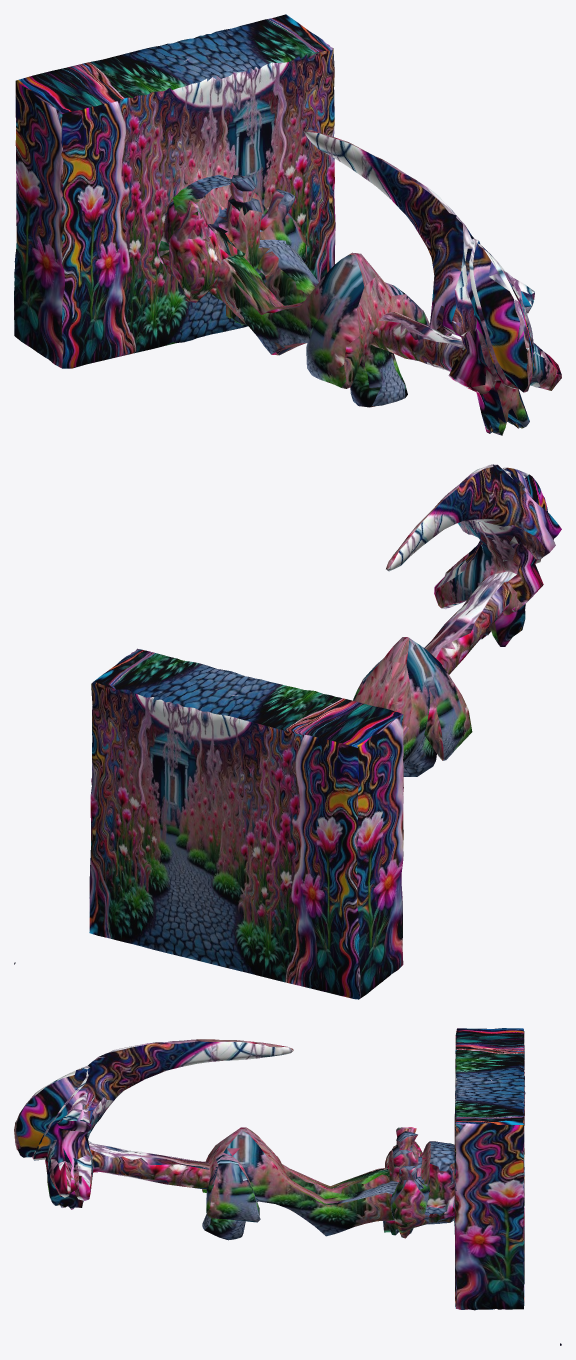
File: tds_bird.glb
3 renders of one model, top to bottom at view 1: azimuth 30°, elevation 25°; view 2: azimuth 150°, elevation 25°; view 3: azimuth 270°, elevation 25°, orthographic. The views are drawn at different scales.
Visible parts, largest first — view 1: A; view 2: A; view 3: A.
Part boxes in pixels (<box>): A: <box>14,14,561,435</box>; A: <box>14,464,561,999</box>; A: <box>14,1028,561,1345</box>.
Size of the model in its own units: 0.9945 by 0.9714 by 2.
Materials: 1 (1 with a texture image).
